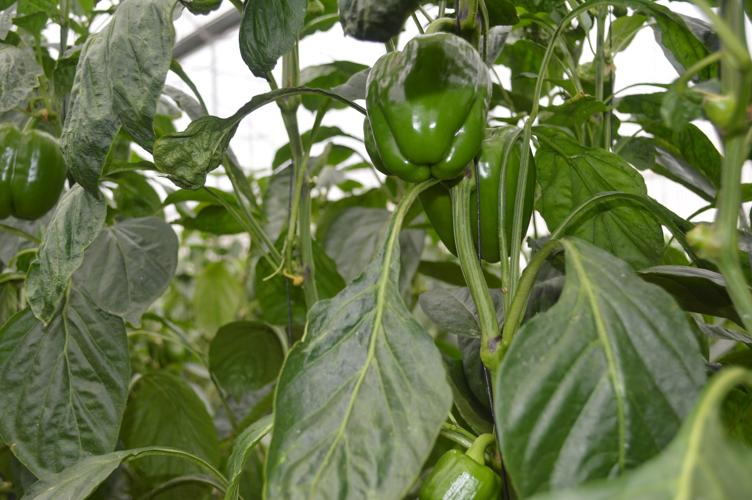BellPepper: (385, 125, 537, 277), (355, 35, 487, 181), (1, 113, 75, 223), (412, 447, 500, 500)
